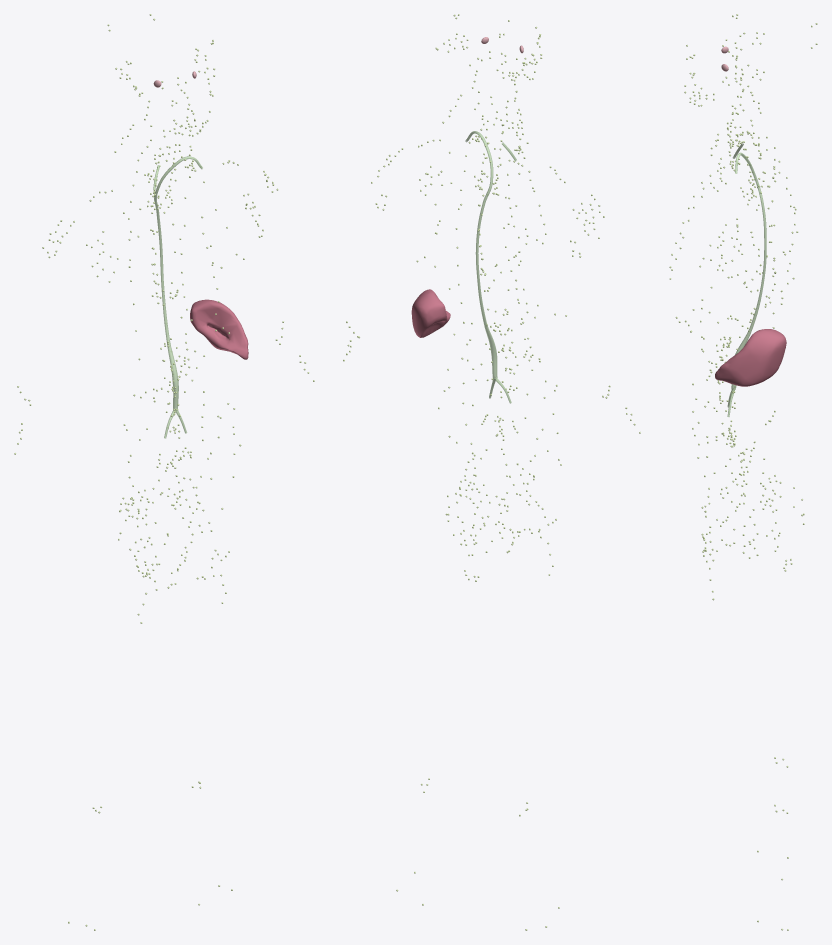
File: lymphatic_system.glb
The picture shows the model from 3 angles, left to right: view 1: azimuth 30°, elevation 25°; view 2: azimuth 150°, elevation 25°; view 3: azimuth 270°, elevation 25°; orthographic projection.
Parts seen in each view (by area): view 1: Lymph_Spleen, Lymph_Ducts, Lymph_Nodes_Axillary_Thoracic, Lymph_Nodes_Pelvic_Inguinal, Lymph_Nodes_Cervical, Lymph_Nodes_Abdominal_Mesenteric; view 2: Lymph_Spleen, Lymph_Ducts, Lymph_Nodes_Axillary_Thoracic, Lymph_Nodes_Pelvic_Inguinal, Lymph_Nodes_Cervical; view 3: Lymph_Spleen, Lymph_Ducts, Lymph_Nodes_Axillary_Thoracic, Lymph_Nodes_Pelvic_Inguinal, Lymph_Nodes_Cervical, Lymph_Nodes_Abdominal_Mesenteric.
Part boxes in pixels (x1,y1,x2,y2): Lymph_Spleen: [190, 299, 248, 359]; Lymph_Ducts: [153, 156, 202, 438]; Lymph_Nodes_Axillary_Thoracic: [14, 146, 314, 454]; Lymph_Nodes_Pelvic_Inguinal: [68, 447, 232, 930]; Lymph_Nodes_Cervical: [107, 14, 215, 182]; Lymph_Nodes_Abdominal_Mesenteric: [122, 316, 241, 570]; Lymph_Spleen: [411, 289, 450, 337]; Lymph_Ducts: [465, 131, 516, 403]; Lymph_Nodes_Axillary_Thoracic: [343, 139, 640, 433]; Lymph_Nodes_Pelvic_Inguinal: [396, 414, 559, 930]; Lymph_Nodes_Cervical: [435, 14, 542, 152]; Lymph_Spleen: [715, 329, 786, 386]; Lymph_Ducts: [727, 143, 766, 416]; Lymph_Nodes_Axillary_Thoracic: [669, 130, 798, 472]; Lymph_Nodes_Pelvic_Inguinal: [702, 420, 804, 930]; Lymph_Nodes_Cervical: [684, 14, 817, 168]; Lymph_Nodes_Abdominal_Mesenteric: [675, 286, 764, 543].
Bounding box in the file's own units: 0.4521 × 1.28 × 0.1963.
